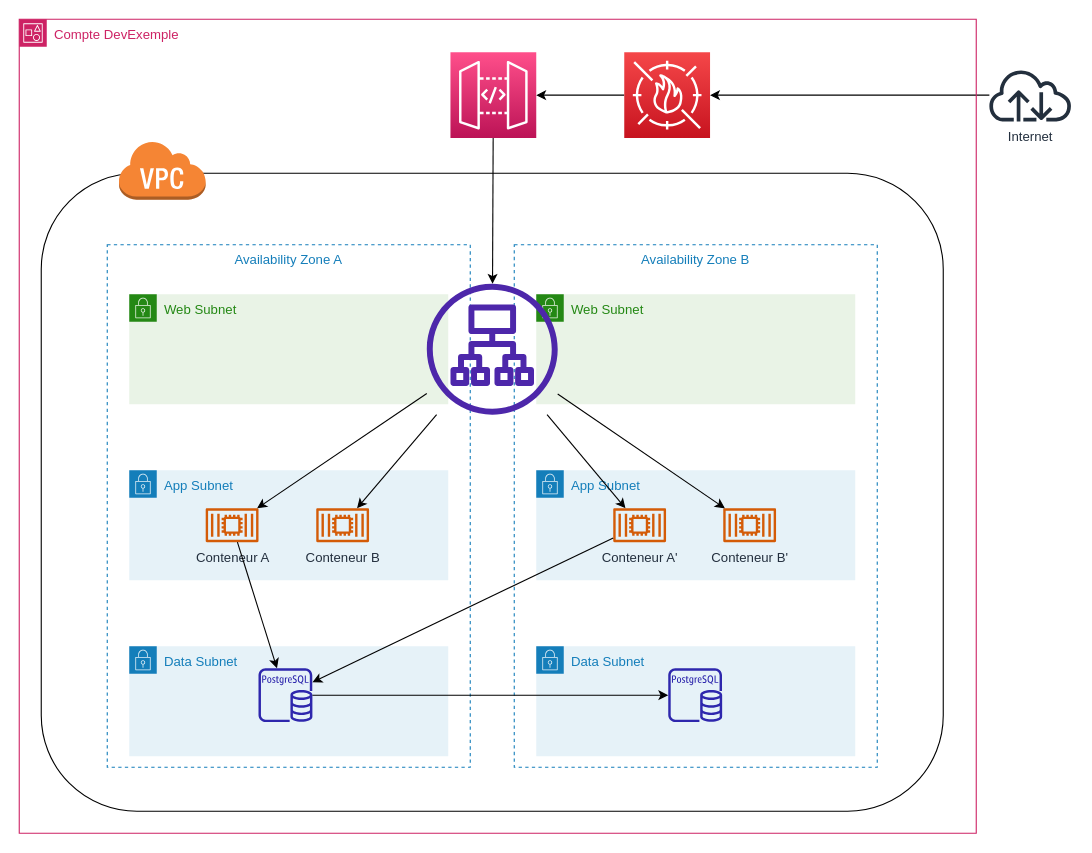
The diagram is 1092 pixels wide and 853 high, and some of its shapes have lost their labels. The shapes that lost their labels are listed below. From the top down, each one's centre as x and y in pixels, then its label:
At point (492, 94): "API Gateway".
At point (666, 94): "AWS WAF".
At point (161, 169): "Dev".
At point (491, 348): "Équilibreur de charge".
At point (285, 695): "Base de donnée".
At point (695, 695): "Base de donnée (replication)".
